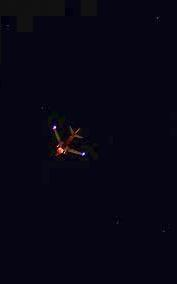Plane: (33, 102, 106, 171)
